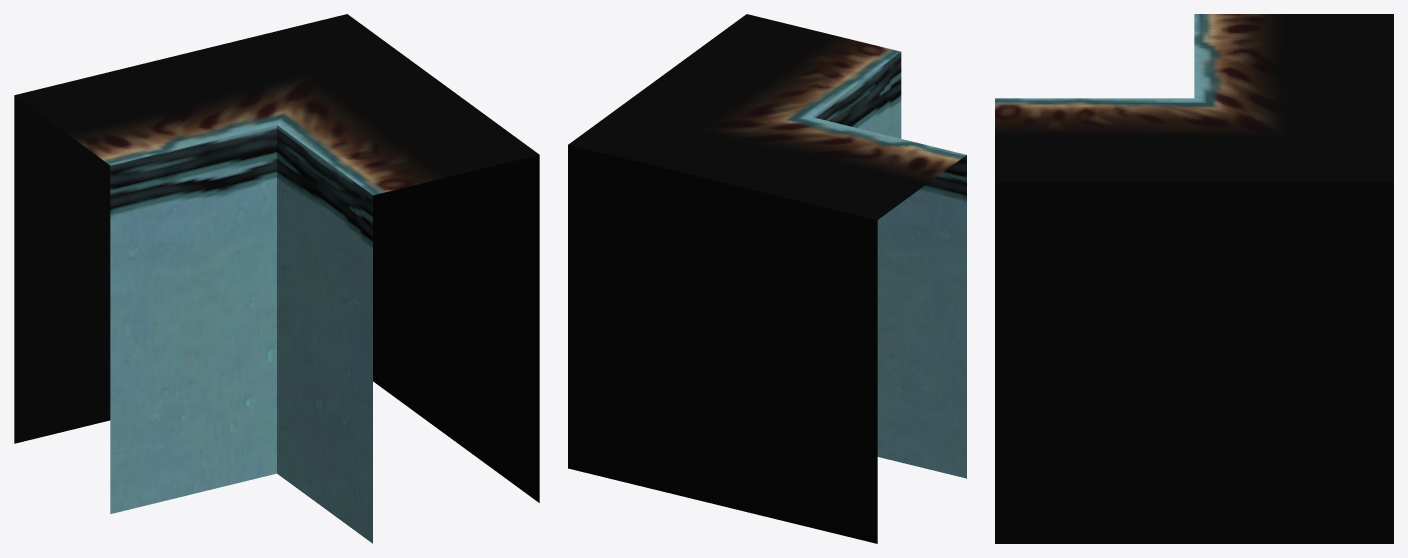
File: topInnerCorner.FBX
The picture shows the model from 3 angles, left to right: view 1: azimuth 30°, elevation 25°; view 2: azimuth 150°, elevation 25°; view 3: azimuth 270°, elevation 25°; orthographic projection. The views are drawn at different scales.
Parts seen in each view (by area): view 1: topWallInnerCorner; view 2: topWallInnerCorner; view 3: topWallInnerCorner.
Part boxes in pixels (x1=…): topWallInnerCorner: x1=14, y1=14, x2=539, y2=543; topWallInnerCorner: x1=568, y1=14, x2=966, y2=543; topWallInnerCorner: x1=995, y1=14, x2=1393, y2=543.
Size of the model in its own units: 0.0254 by 0.0254 by 0.0254.
